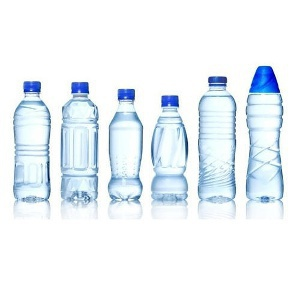emptybottle: (246, 67, 284, 202), (198, 76, 237, 204), (60, 81, 98, 203), (13, 81, 50, 204), (107, 89, 143, 202), (151, 95, 188, 201)
